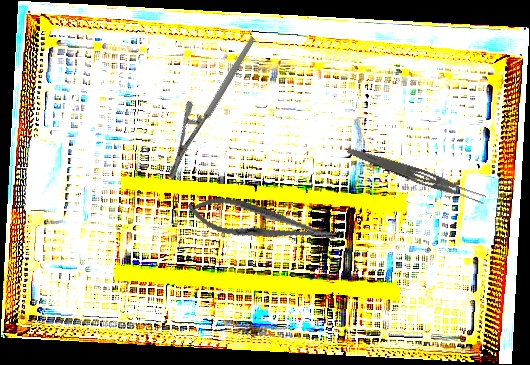Dressing Forceps: (344, 144, 488, 208)
Needle Holder: (133, 35, 291, 182), (183, 190, 341, 256)
